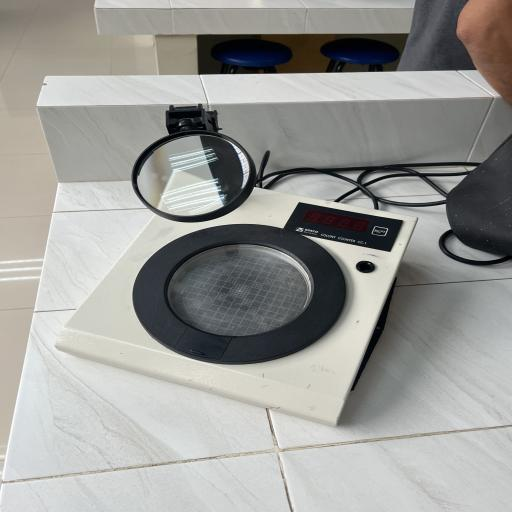Contador_Colonias_CC1: (46, 94, 426, 434)
